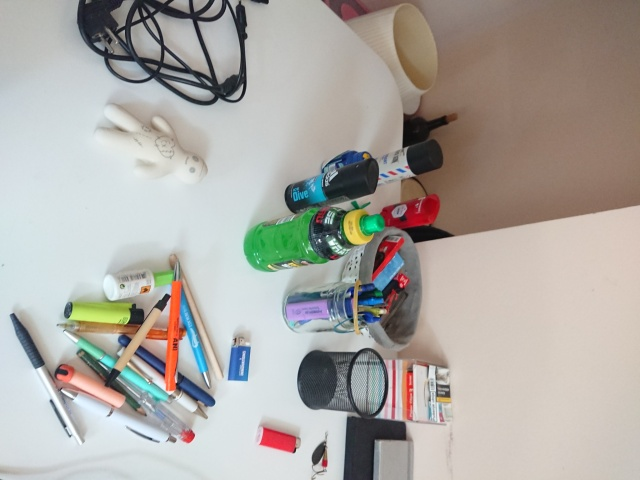Vindi Iso Sport Lemon-Grapefruit 500mL: (241, 204, 388, 275)
